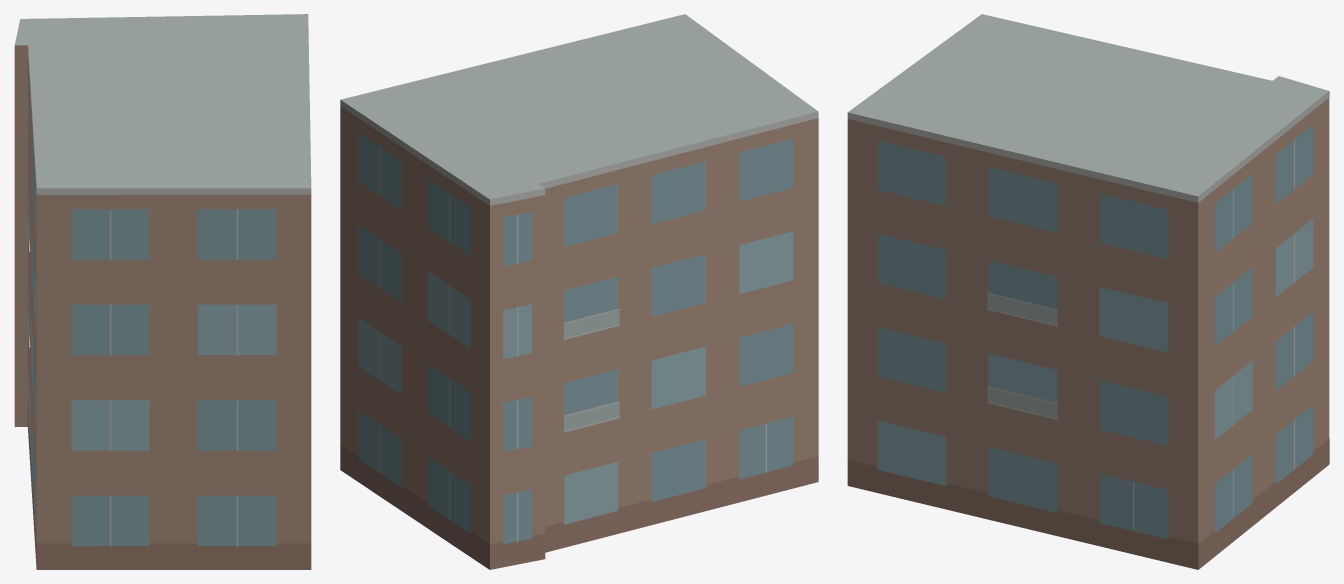
The model's file is survey-upis-32656153.glb.
3 renders of one model, left to right at view 1: azimuth 30°, elevation 25°; view 2: azimuth 150°, elevation 25°; view 3: azimuth 270°, elevation 25°, orthographic. The views are drawn at different scales.
Parts seen in each view (by area): view 1: survey-upis-32656153.tmp; view 2: survey-upis-32656153.tmp; view 3: survey-upis-32656153.tmp.
Boxes of the visible parts, x1,y1,x2,y2 form: survey-upis-32656153.tmp: (14, 14, 311, 569); survey-upis-32656153.tmp: (340, 14, 818, 569); survey-upis-32656153.tmp: (847, 14, 1329, 569).
Bounding box in the file's own units: 14.79 × 14.1 × 16.5.
